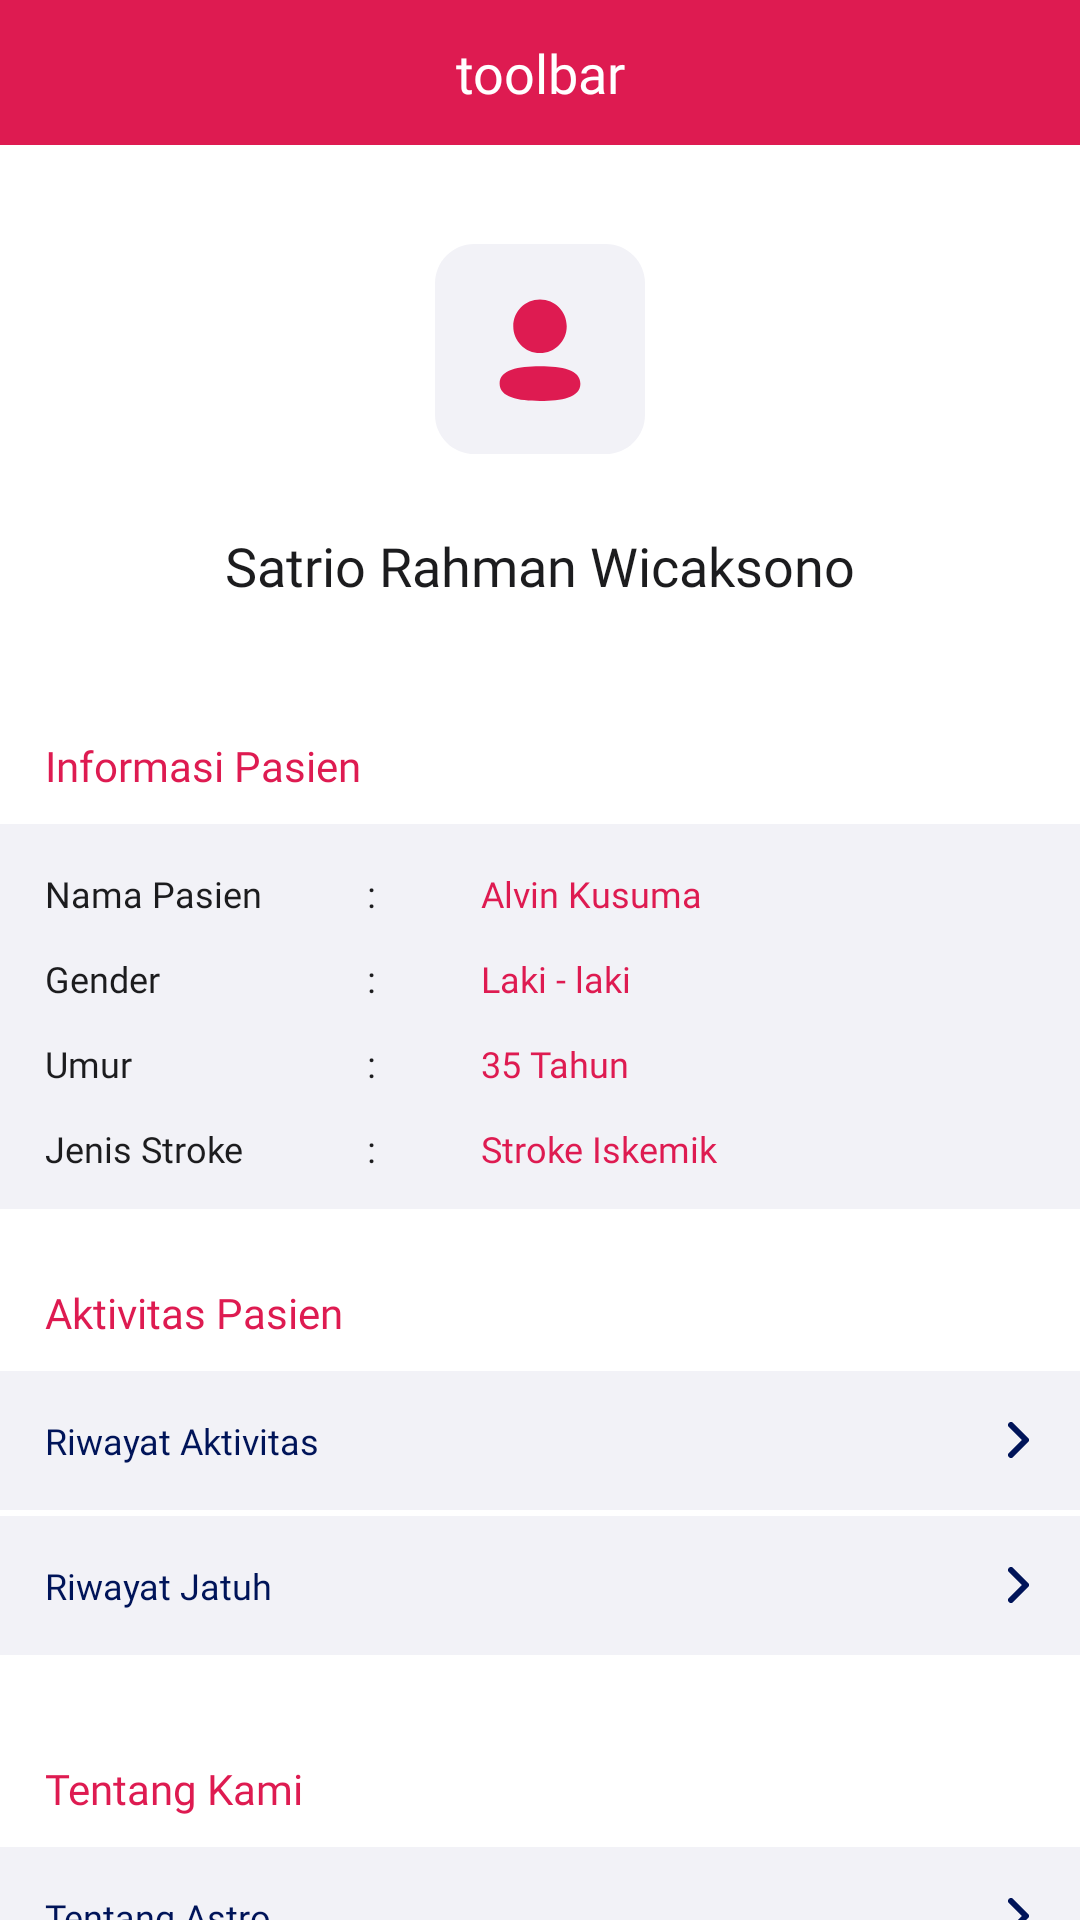

Icon click points for this 1080 × 1920 phone screenshot, format point (x, y):
profile rounded: point (540, 350)
